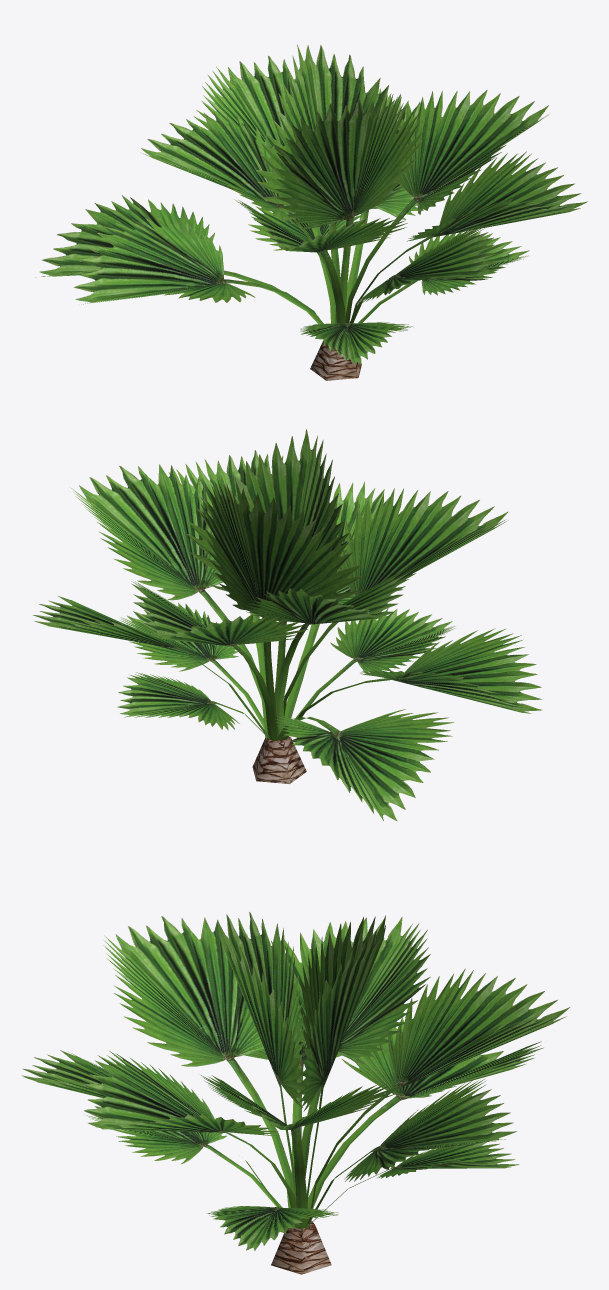
File: plant20.FBX
3 renders of one model, top to bottom at view 1: azimuth 30°, elevation 25°; view 2: azimuth 150°, elevation 25°; view 3: azimuth 270°, elevation 25°, orthographic. The views are drawn at different scales.
Visible parts, largest first — view 1: plant20; view 2: plant20; view 3: plant20.
Boxes of the visible parts, x1,y1,x2,y2 form: plant20: (35,44,587,380); plant20: (32,429,542,821); plant20: (22,912,570,1274).
Size of the model in its own units: 55.76 by 51.58 by 35.03.
